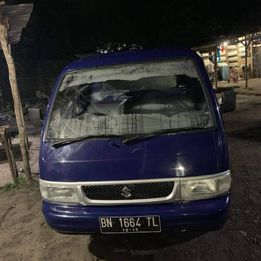plate: (97, 217, 164, 232)
